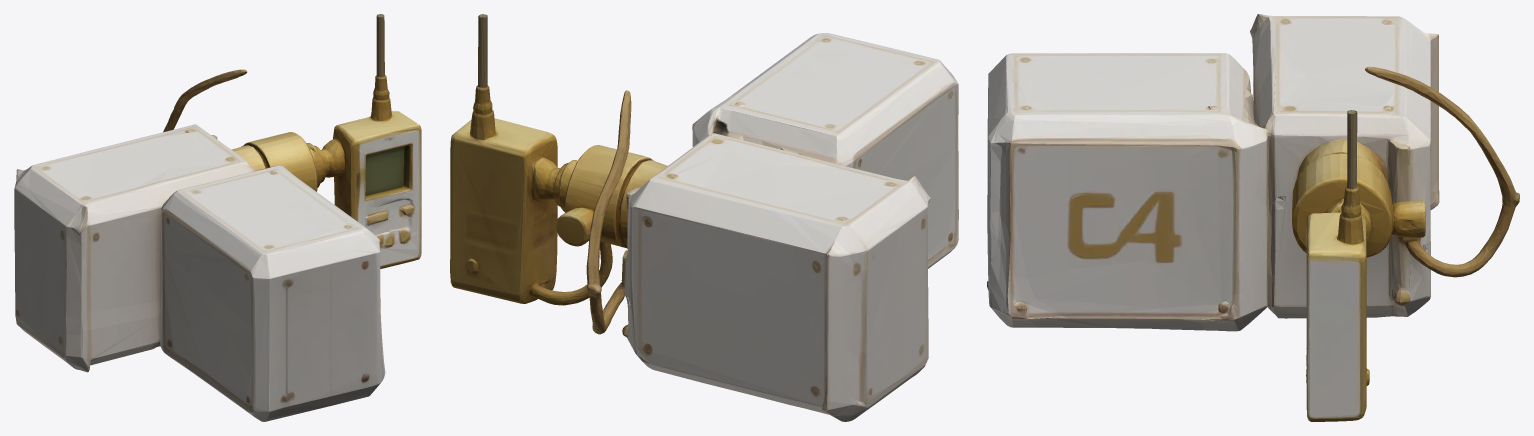
The model's file is white_c4.glb.
The picture shows the model from 3 angles, left to right: view 1: azimuth 30°, elevation 25°; view 2: azimuth 150°, elevation 25°; view 3: azimuth 270°, elevation 25°; orthographic projection. The views are drawn at different scales.
Parts seen in each view (by area): view 1: geometry_0; view 2: geometry_0; view 3: geometry_0.
Part boxes in pixels (left/top/right/bottom): geometry_0: left=14, top=14, right=421, bottom=421; geometry_0: left=450, top=14, right=958, bottom=421; geometry_0: left=987, top=14, right=1519, bottom=421.
Size of the model in its own units: 0.9986 by 0.6424 by 0.991.
1 material, 1 textured.
